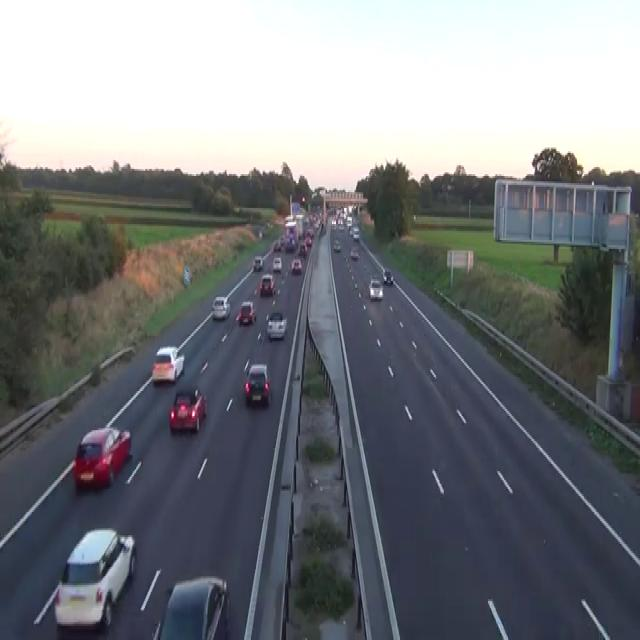Car: (54, 526, 136, 630), (151, 574, 230, 638), (73, 425, 131, 489), (169, 386, 207, 432), (151, 345, 184, 382), (244, 363, 270, 405), (266, 311, 287, 340), (236, 300, 256, 324), (211, 295, 230, 320), (259, 274, 275, 295), (368, 278, 383, 300), (290, 256, 302, 274), (382, 266, 393, 284), (284, 236, 295, 252), (272, 256, 281, 272), (284, 213, 295, 226), (253, 256, 263, 270), (350, 246, 359, 260), (333, 238, 341, 251), (273, 240, 281, 251), (299, 244, 306, 256), (265, 220, 273, 230), (306, 228, 314, 238), (295, 210, 304, 218), (305, 235, 312, 245), (353, 229, 359, 240), (346, 215, 352, 226), (314, 219, 320, 229), (331, 218, 336, 228), (279, 235, 284, 245), (338, 222, 344, 230), (348, 224, 352, 235), (259, 230, 262, 238)
